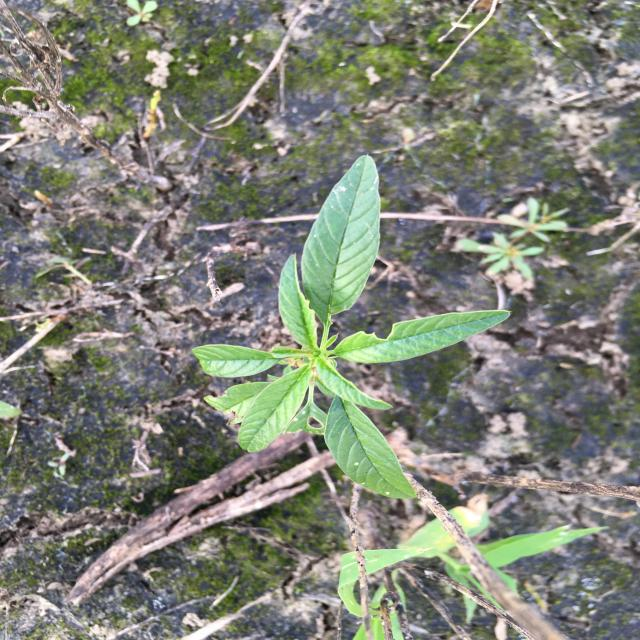Carpetweed: (449, 193, 574, 290)
Waterhemp: (190, 153, 514, 501)
